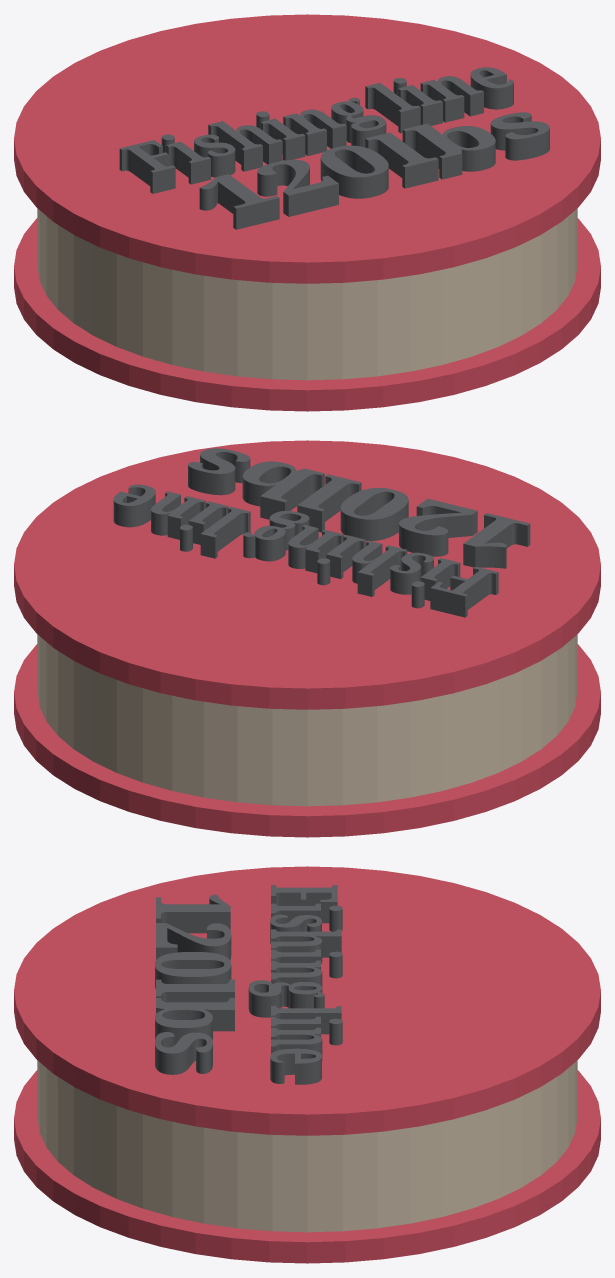
The model's file is Brilliant Crift-Krunk (1).glb.
The picture shows the model from 3 angles, top to bottom: view 1: azimuth 30°, elevation 25°; view 2: azimuth 150°, elevation 25°; view 3: azimuth 270°, elevation 25°; orthographic projection.
Parts seen in each view (by area): view 1: Mesh_Mesh_head_geo.001_lambert2SG.001; view 2: Mesh_Mesh_head_geo.001_lambert2SG.001; view 3: Mesh_Mesh_head_geo.001_lambert2SG.001.
Boxes of the visible parts, x1=… form: Mesh_Mesh_head_geo.001_lambert2SG.001: x1=14, y1=14, x2=600, y2=411; Mesh_Mesh_head_geo.001_lambert2SG.001: x1=14, y1=440, x2=600, y2=837; Mesh_Mesh_head_geo.001_lambert2SG.001: x1=14, y1=866, x2=600, y2=1263.
Size of the model in its own units: 0.025 by 0.008 by 0.025.
